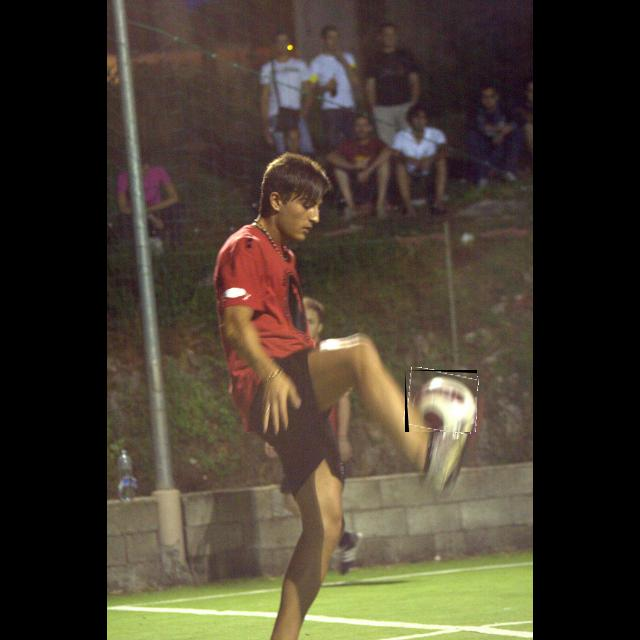Football: (405, 370, 477, 432)
